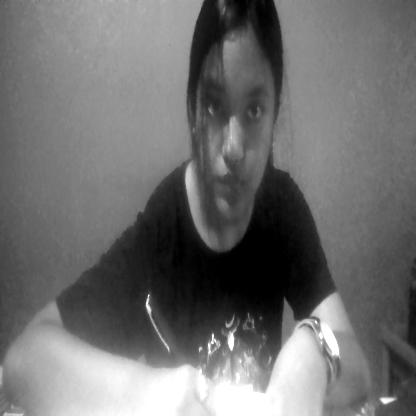Normal: (186, 5, 286, 218)
